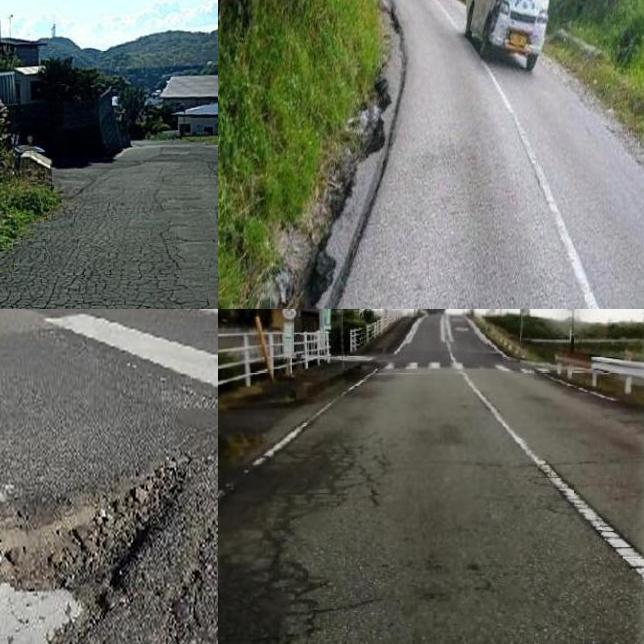Lubang: (0, 455, 191, 606)
Pinggir: (244, 19, 414, 309)
Retak Buaya: (0, 203, 212, 309)
